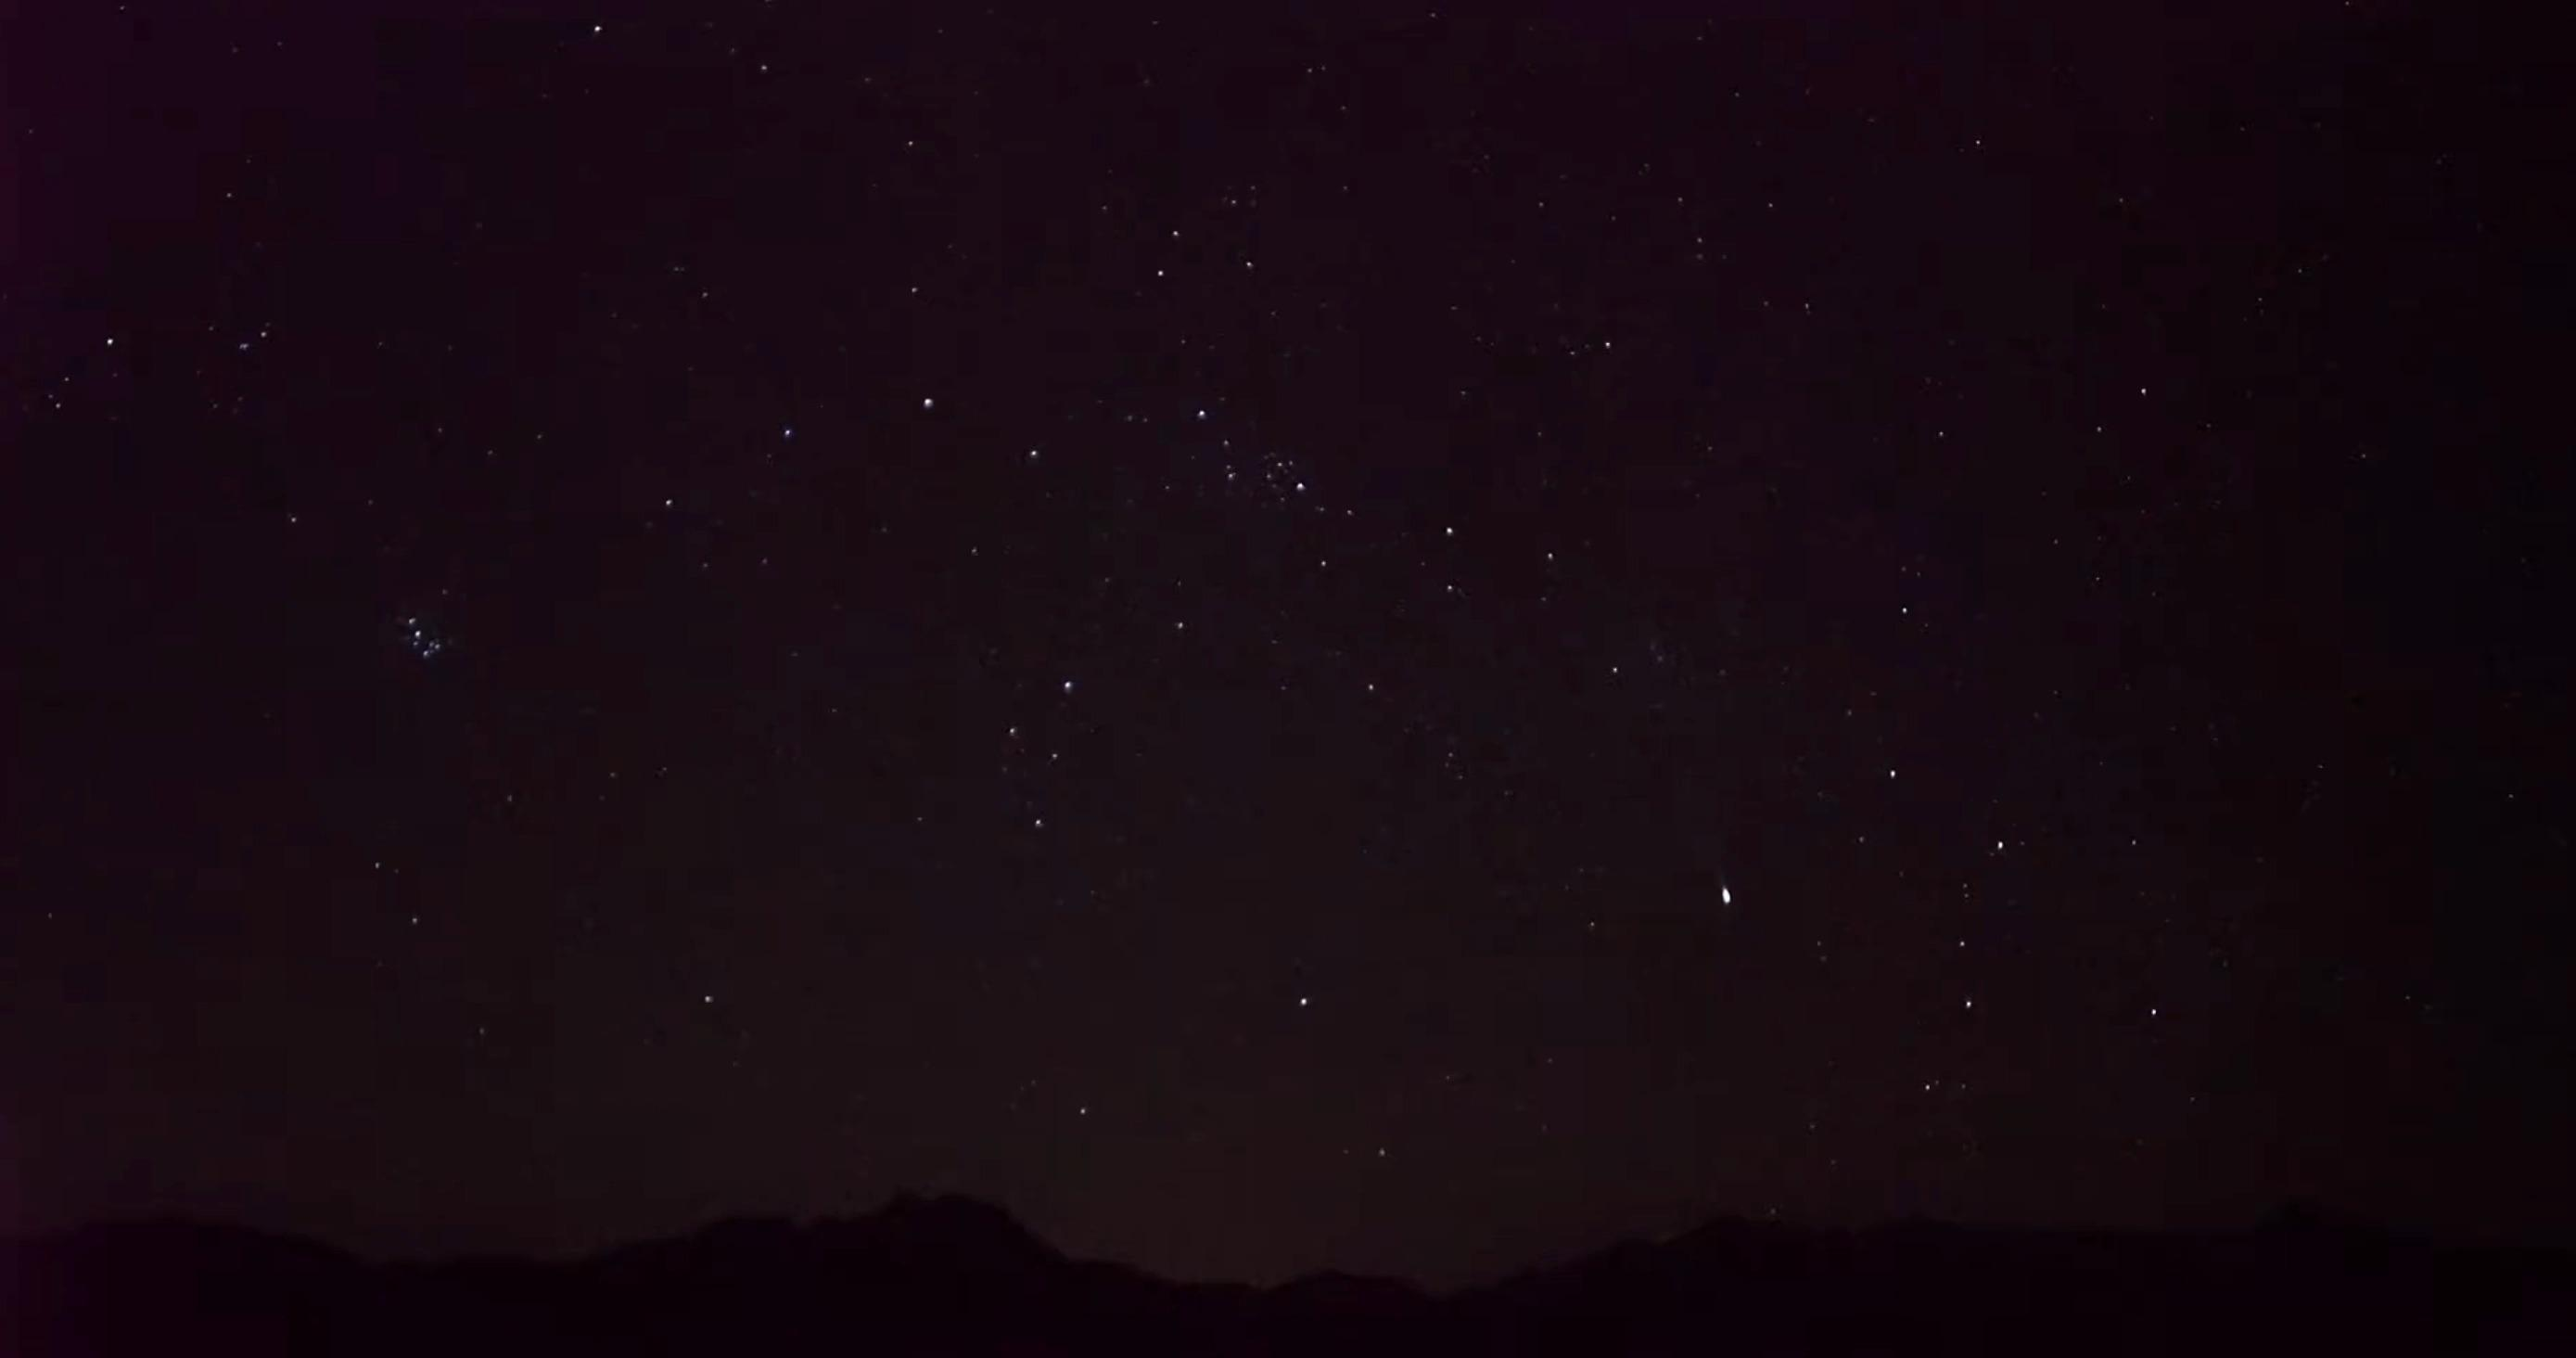meteorite: (1685, 869, 1772, 920)
